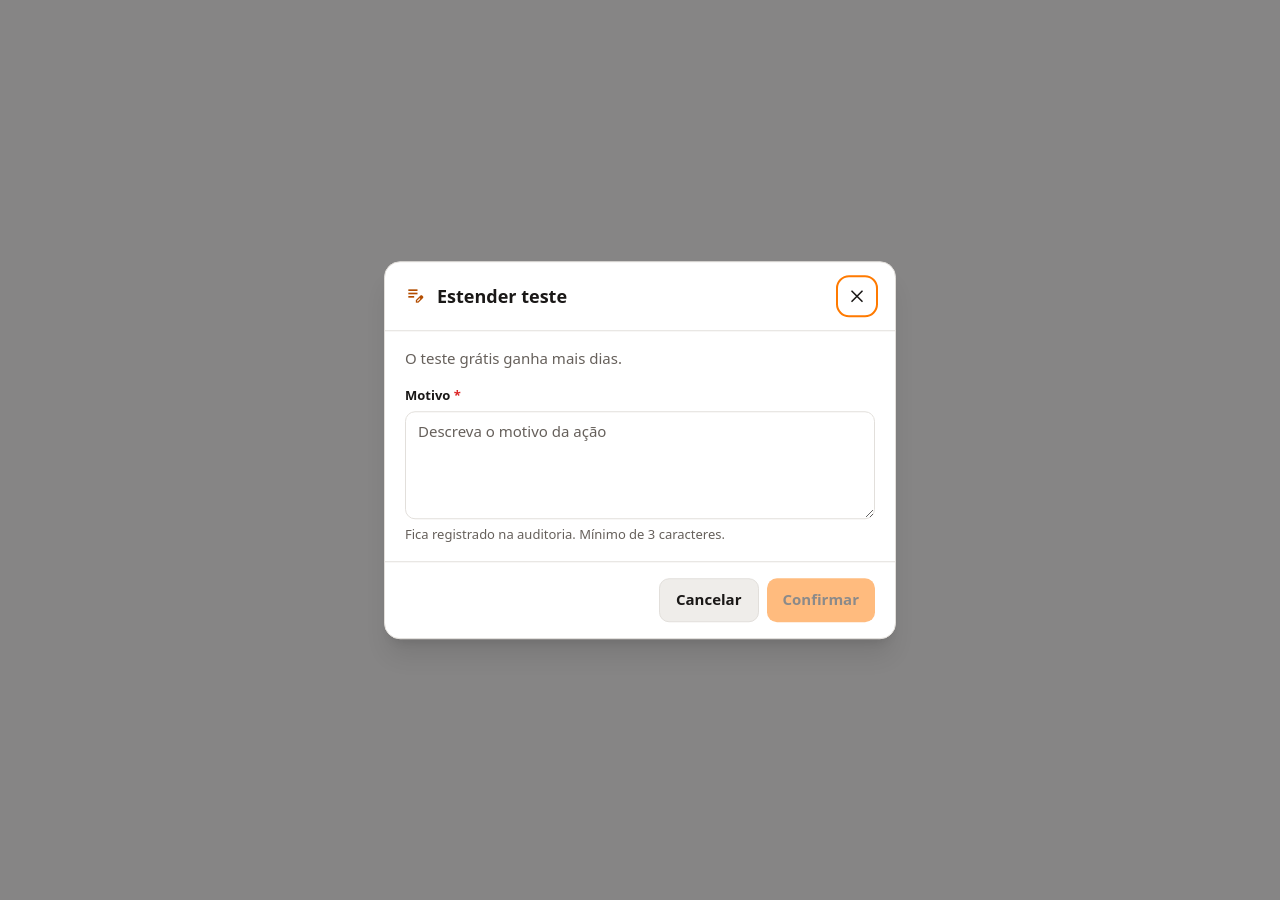
Test case: AcaoComMotivoModal › só habilita com motivo de 3 caracteres ou mais
Type "ab" into the text box labelled "Motivo *" at coordinates (640, 465), box [405, 411, 875, 519]
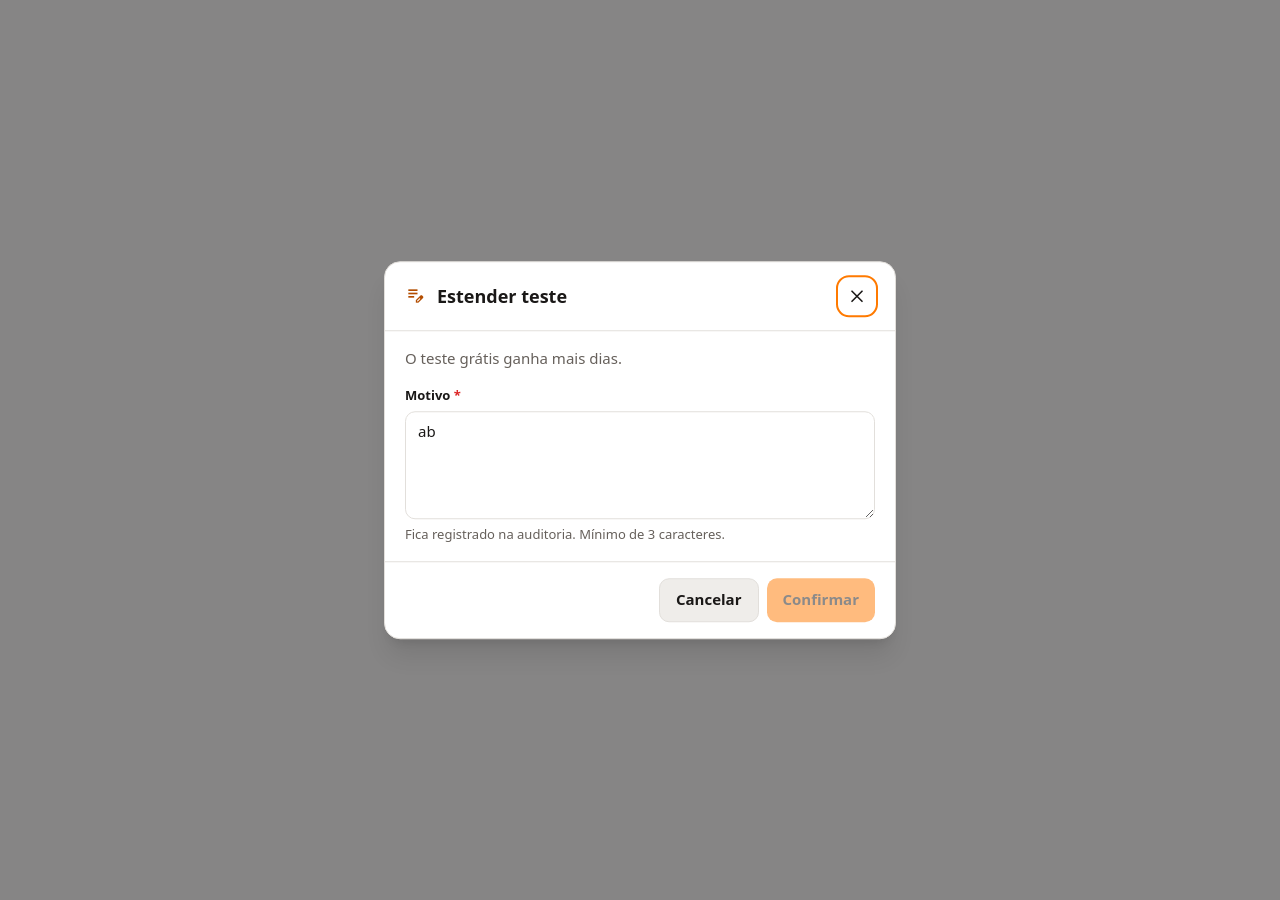
Expected: the button "Confirmar" is disabled, [766, 578, 875, 622]
Replace the text in the text box labelled "Motivo *" with "abc" at coordinates (640, 465), box [405, 411, 875, 519]
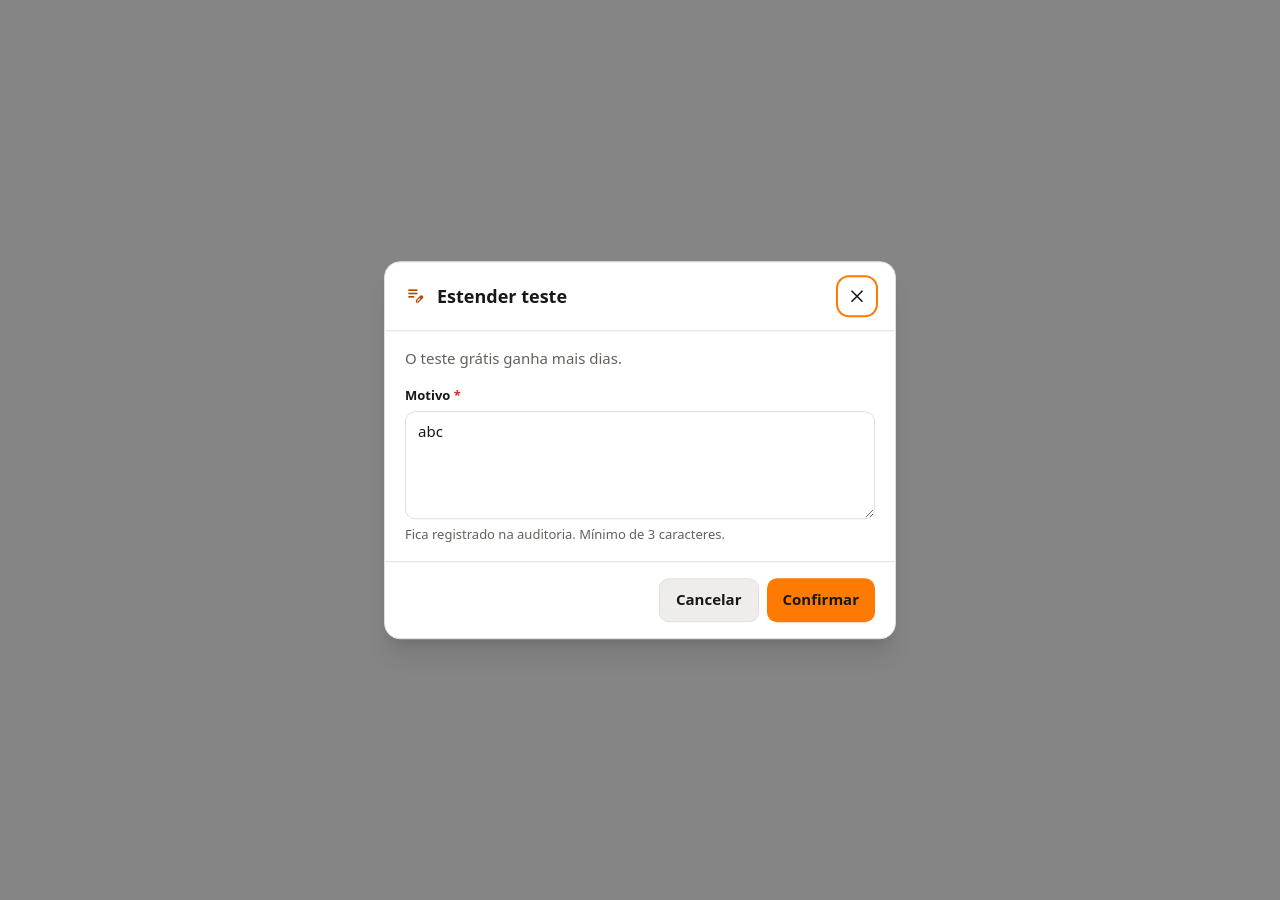
Expected: the button "Confirmar" is enabled, [766, 578, 875, 622]
